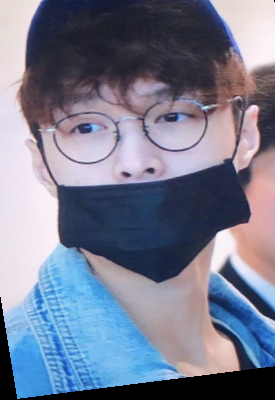mask_weared_incorrect: (7, 1, 274, 288)
